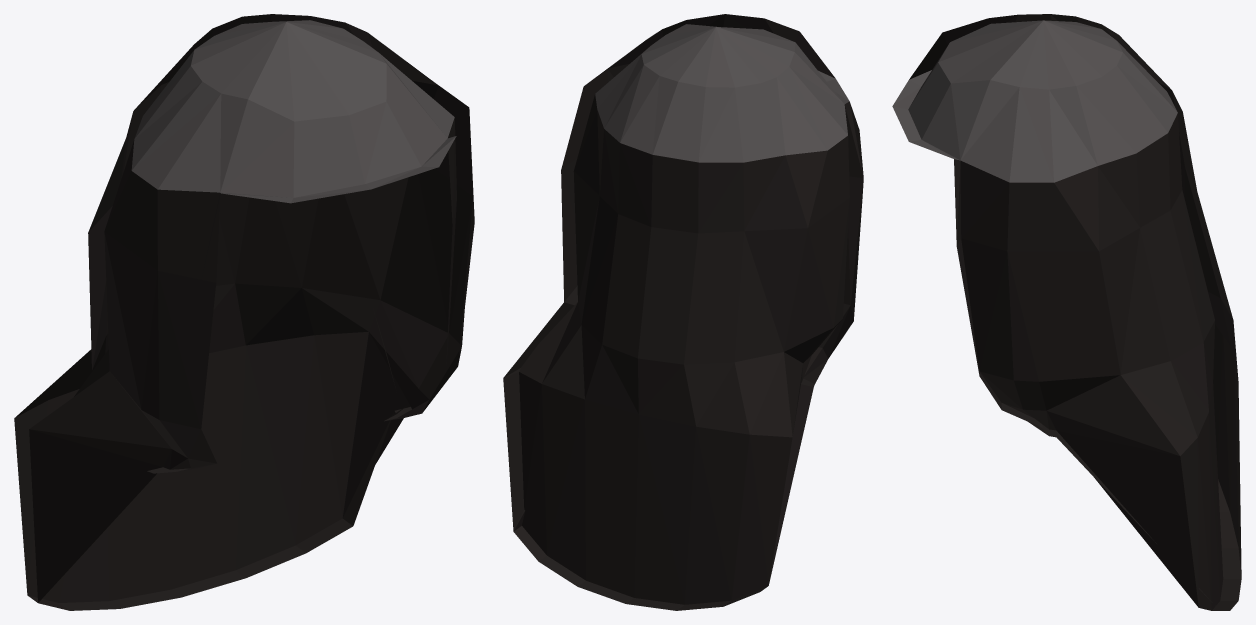
The model's file is hair_long_01.glb.
3 views of the same model, side by side, from view 1: azimuth 30°, elevation 25°; view 2: azimuth 150°, elevation 25°; view 3: azimuth 270°, elevation 25° (orthographic). The views are drawn at different scales.
Parts seen in each view (by area): view 1: hair_long_01; view 2: hair_long_01; view 3: hair_long_01.
Part boxes in pixels (<box>): hair_long_01: <box>14,14,474,610</box>; hair_long_01: <box>503,14,863,610</box>; hair_long_01: <box>892,14,1241,610</box>.
Size of the model in its own units: 0.3439 by 0.6043 by 0.3424.
1 material, 1 textured.
